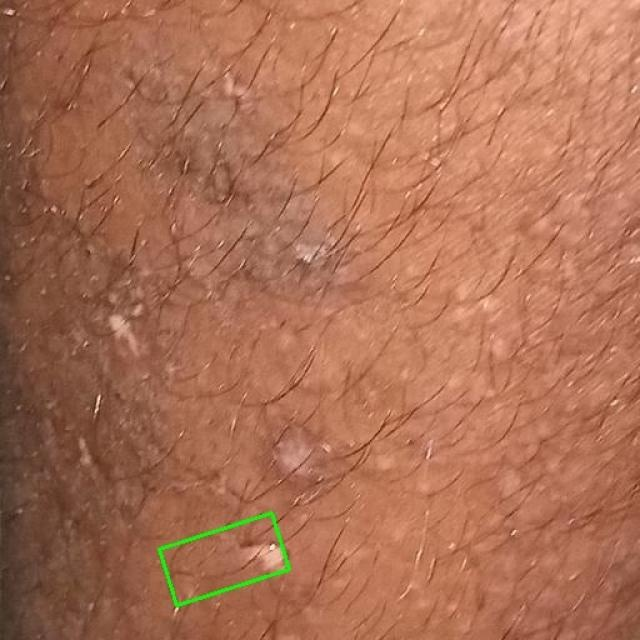Eczema: (159, 513, 290, 606)
